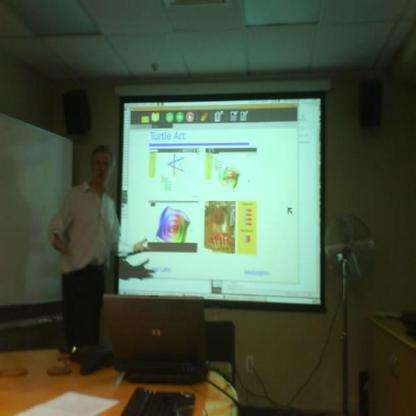board: (98, 291, 219, 397)
